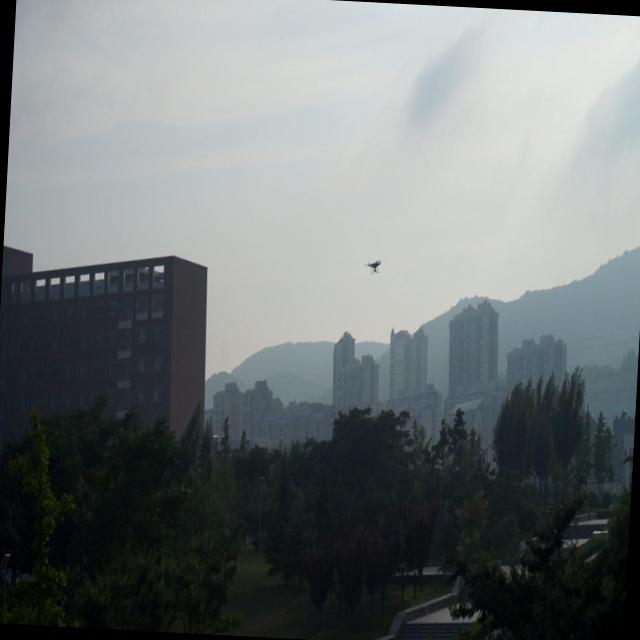drone: (362, 256, 386, 274)
